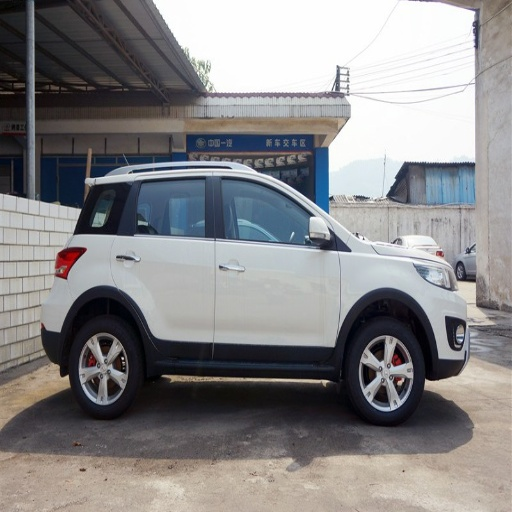back_right_door: (112, 171, 212, 359)
front_right_door: (213, 173, 340, 362)
